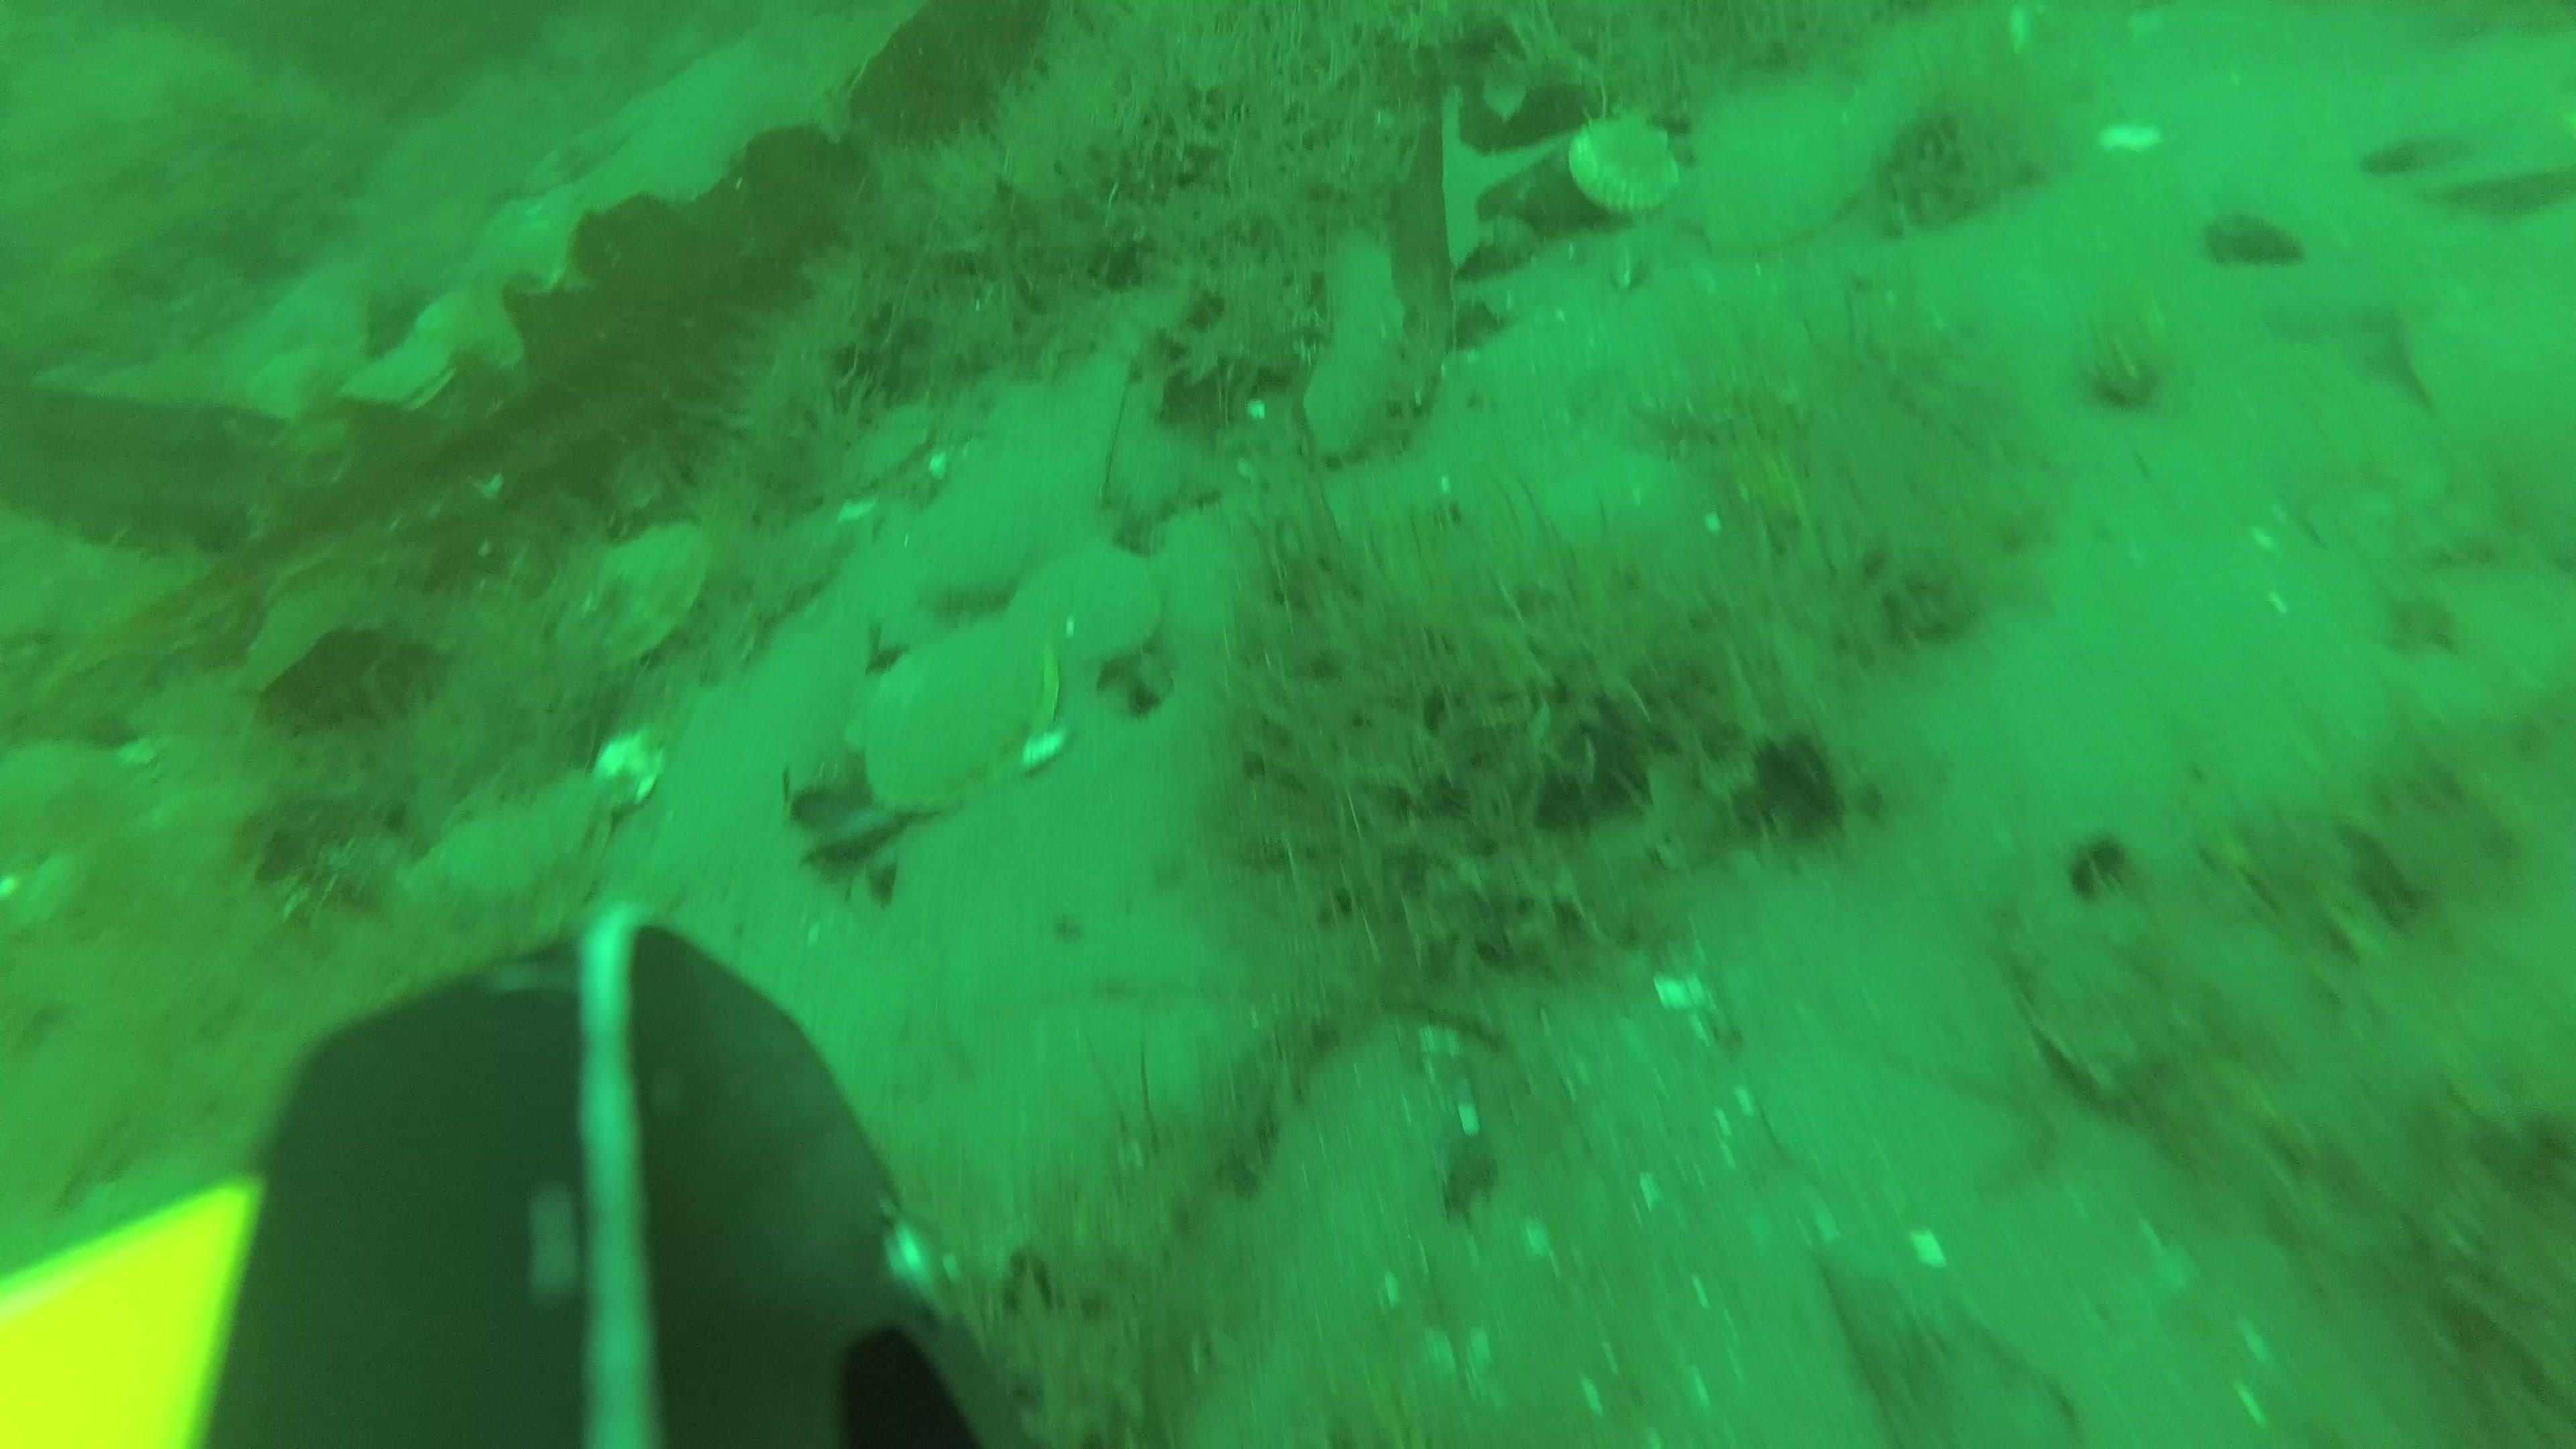scallop: (855, 621, 1065, 816), (1683, 99, 1877, 258), (552, 518, 715, 672), (1010, 545, 1162, 671), (409, 285, 525, 395), (1568, 111, 1683, 216), (341, 324, 462, 412), (242, 345, 359, 412)
